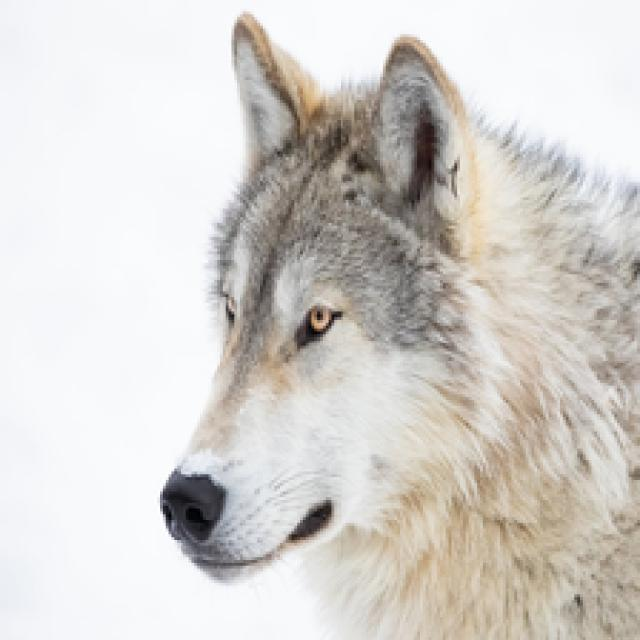wolf: (125, 7, 640, 640)
